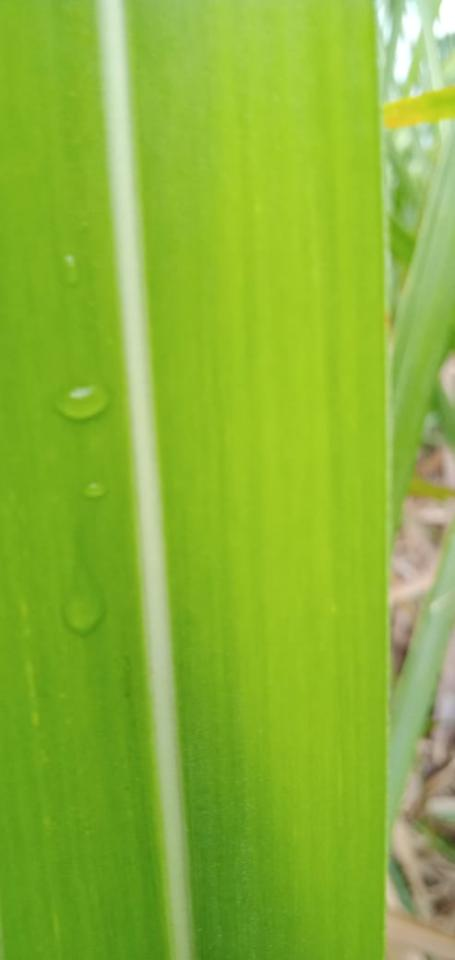Healthy: (0, 0, 388, 959)
